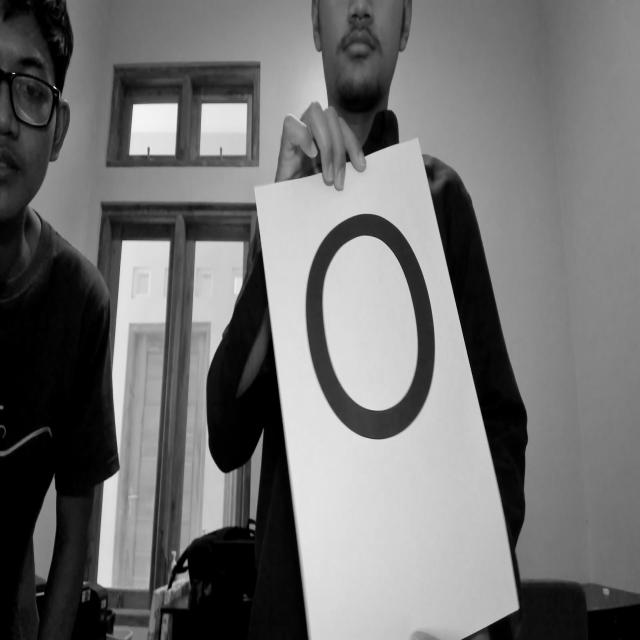o: (302, 198, 438, 447)
